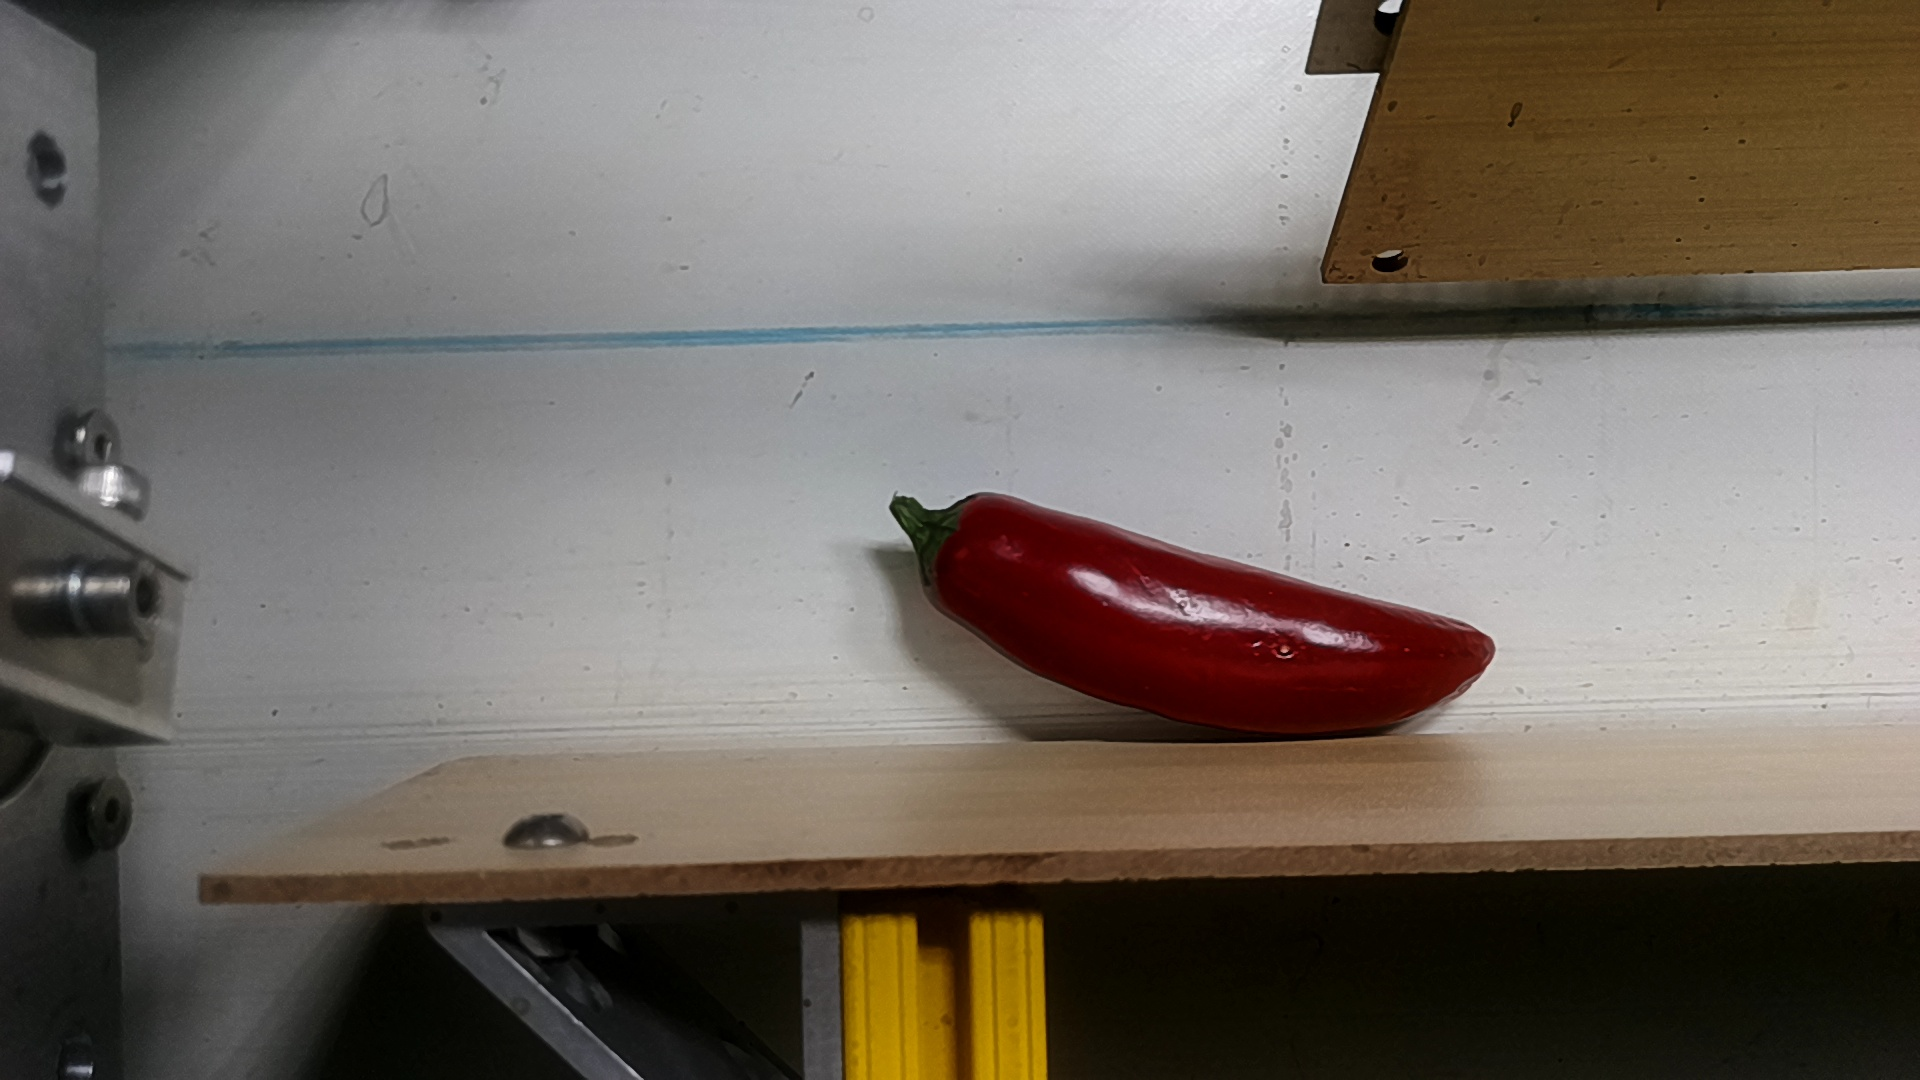Cut Point: (899, 477, 998, 611)
